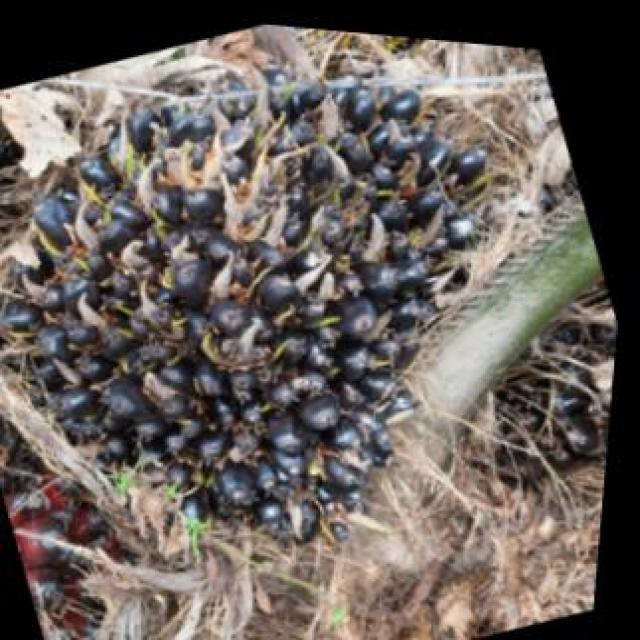Unripe: (0, 0, 616, 638)
